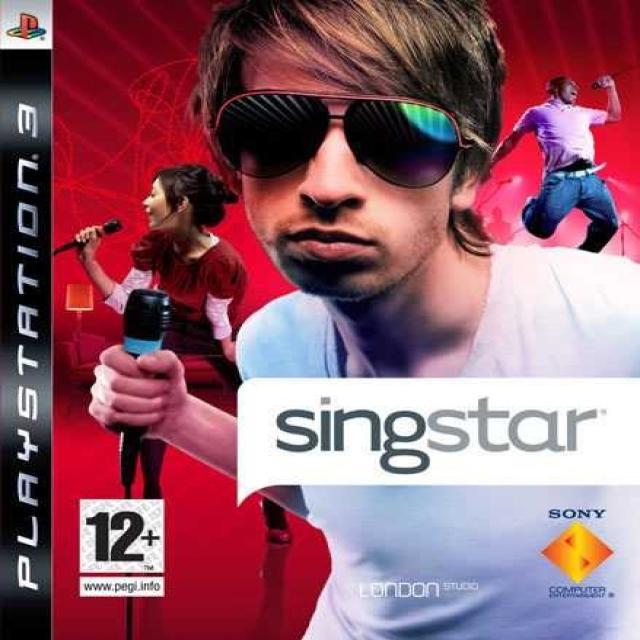microphone: (110, 287, 171, 452), (52, 218, 122, 257), (583, 69, 618, 98)
